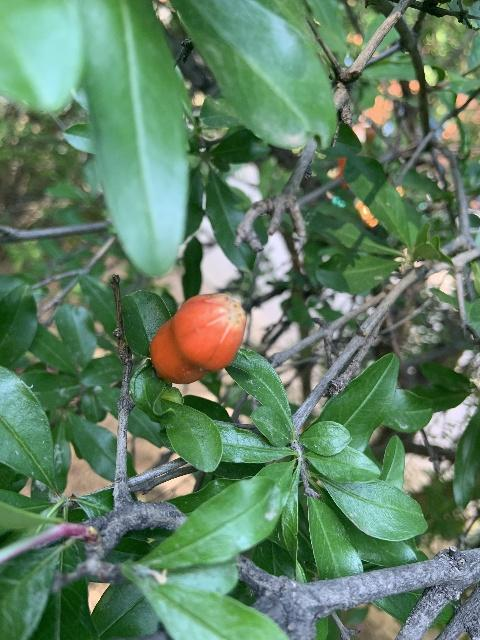bud: (150, 293, 246, 385)
